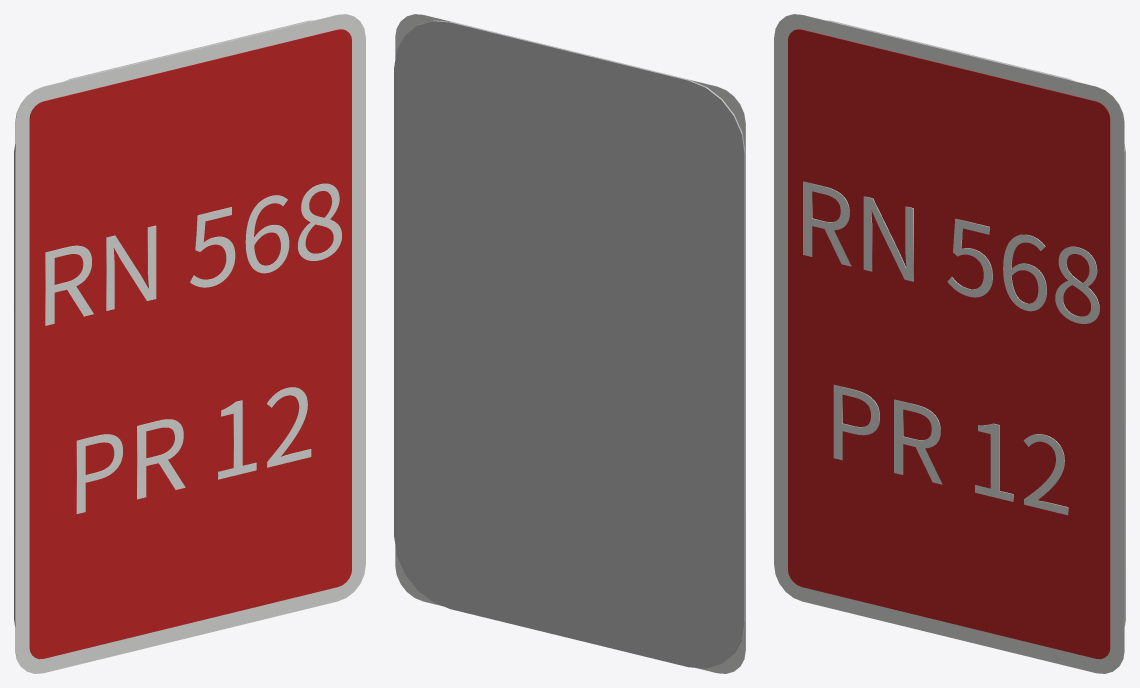
The picture shows the model from 3 angles, left to right: view 1: azimuth 30°, elevation 25°; view 2: azimuth 150°, elevation 25°; view 3: azimuth 330°, elevation 25°; orthographic projection.
Visible parts, largest first — view 1: E52a_fond01, E52a_cadre00, E52a_txt02, E52a_txt03, E52a_dos; view 2: E52a_dos, E52a_cadre00; view 3: E52a_fond01, E52a_cadre00, E52a_txt02, E52a_txt03, E52a_dos.
Part boxes in pixels (x1,y1,x2,y2): E52a_fond01: (29, 29, 351, 659); E52a_cadre00: (15, 14, 365, 673); E52a_txt02: (45, 183, 341, 325); E52a_txt03: (76, 387, 311, 513); E52a_dos: (14, 20, 313, 626); E52a_dos: (394, 20, 745, 668); E52a_cadre00: (395, 14, 745, 673); E52a_fond01: (788, 29, 1110, 659); E52a_cadre00: (774, 14, 1124, 673); E52a_txt02: (803, 181, 1099, 323); E52a_txt03: (833, 384, 1068, 515); E52a_dos: (826, 20, 1125, 626).
Size of the model in its own units: 0.25 by 0.4 by 0.0029.
